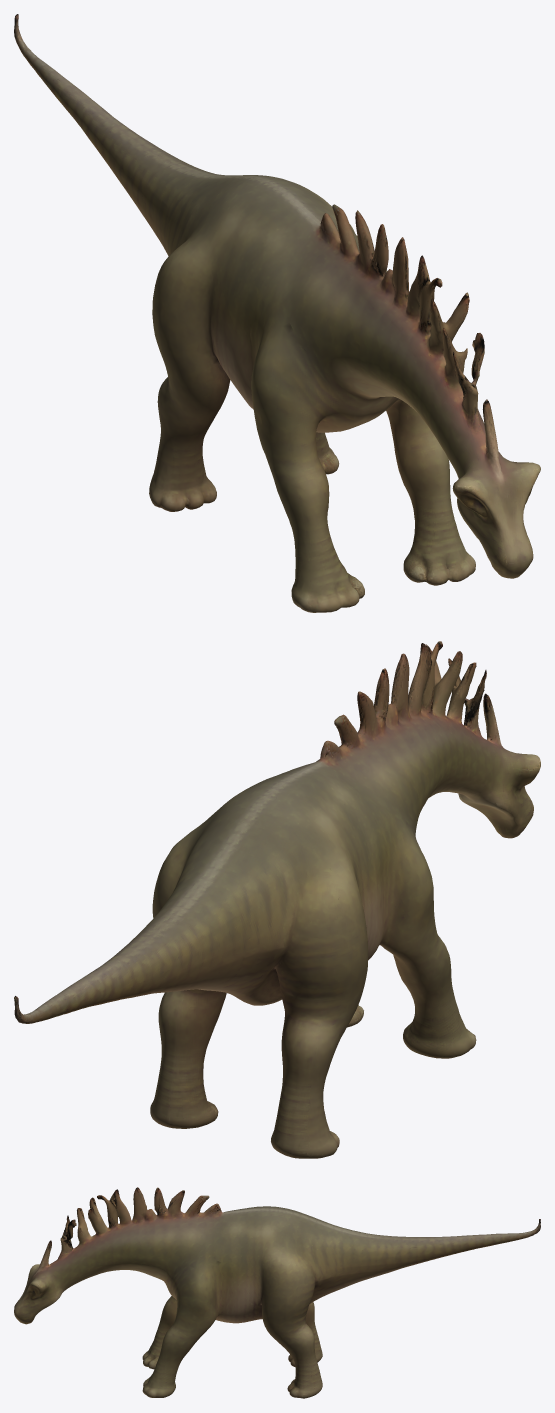
The picture shows the model from 3 angles, top to bottom: view 1: azimuth 30°, elevation 25°; view 2: azimuth 150°, elevation 25°; view 3: azimuth 270°, elevation 25°; orthographic projection. The views are drawn at different scales.
Visible parts, largest first — view 1: world; view 2: world; view 3: world.
Part boxes in pixels (x1,y1,x2,y2): world: [14, 14, 540, 612]; world: [14, 641, 540, 1158]; world: [14, 1187, 540, 1398].
Size of the model in its own units: 2.07 by 3.57 by 8.95.
Materials: 1 (1 with a texture image).
